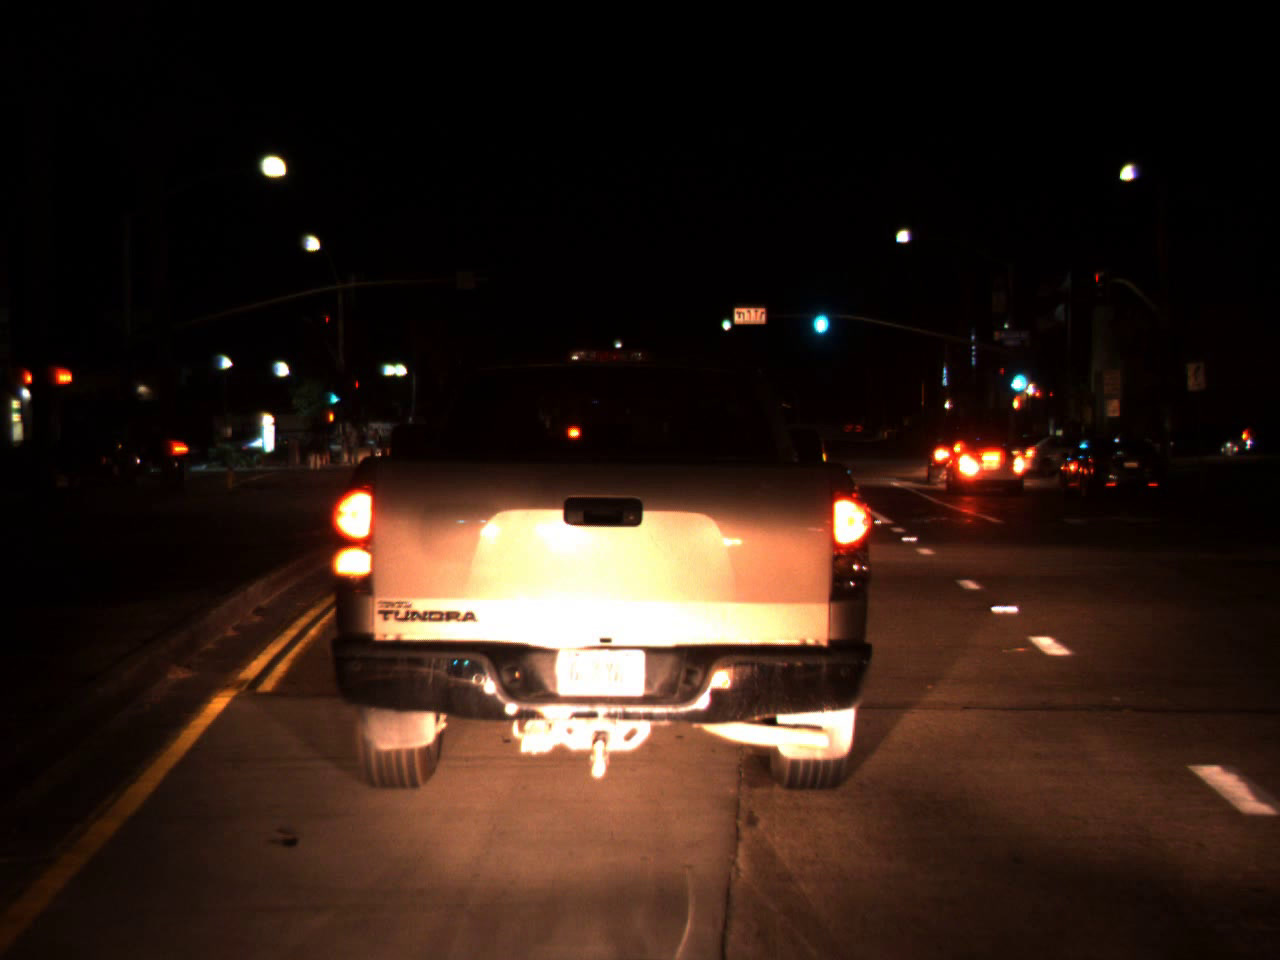go: (807, 292, 833, 340), (1008, 356, 1029, 395), (325, 377, 344, 410), (719, 305, 731, 335)
